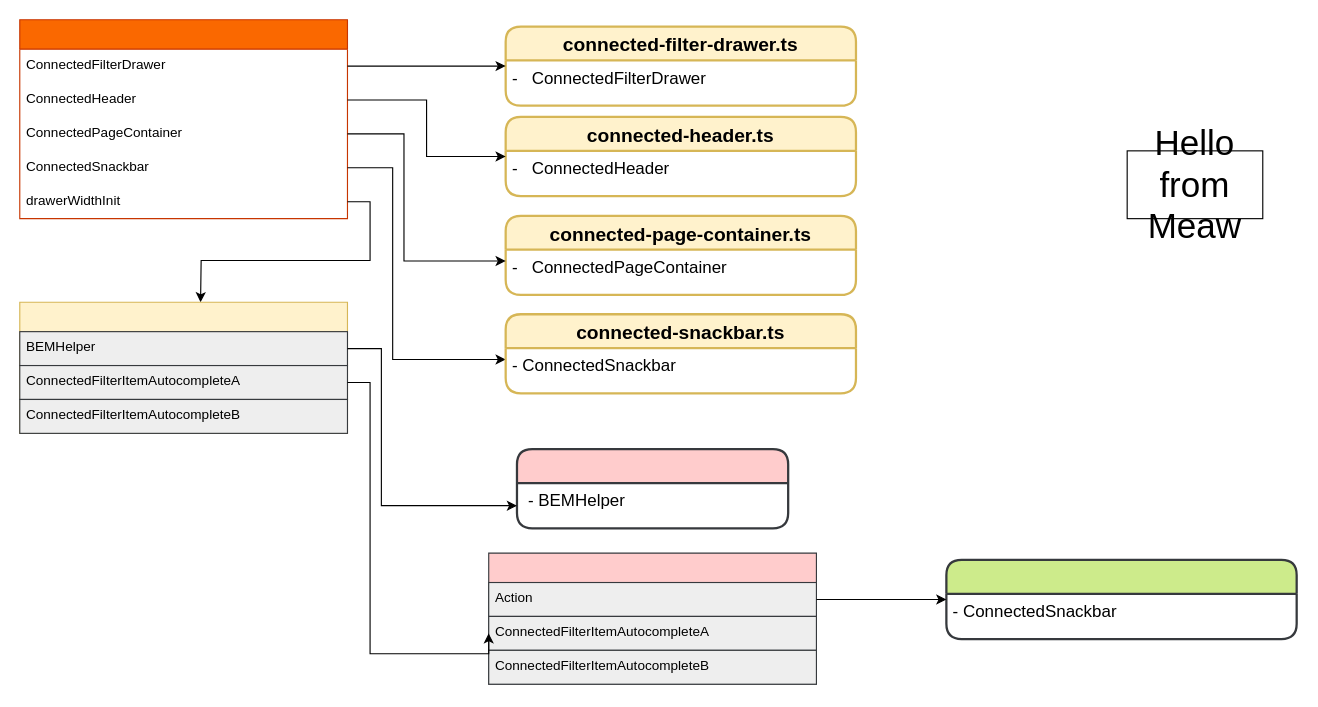
This 1318x707 diagram has some shape labels left out. Each missing label, with the box of its shape:
application.txs: (19, 19, 347, 219)
bem-helper.ts: (515, 447, 789, 529)
connected-filter-item-autocomplete-a.tsx: (488, 552, 816, 684)
filter-drawer.tsx: (19, 301, 347, 433)
index.ts: (945, 558, 1297, 640)
